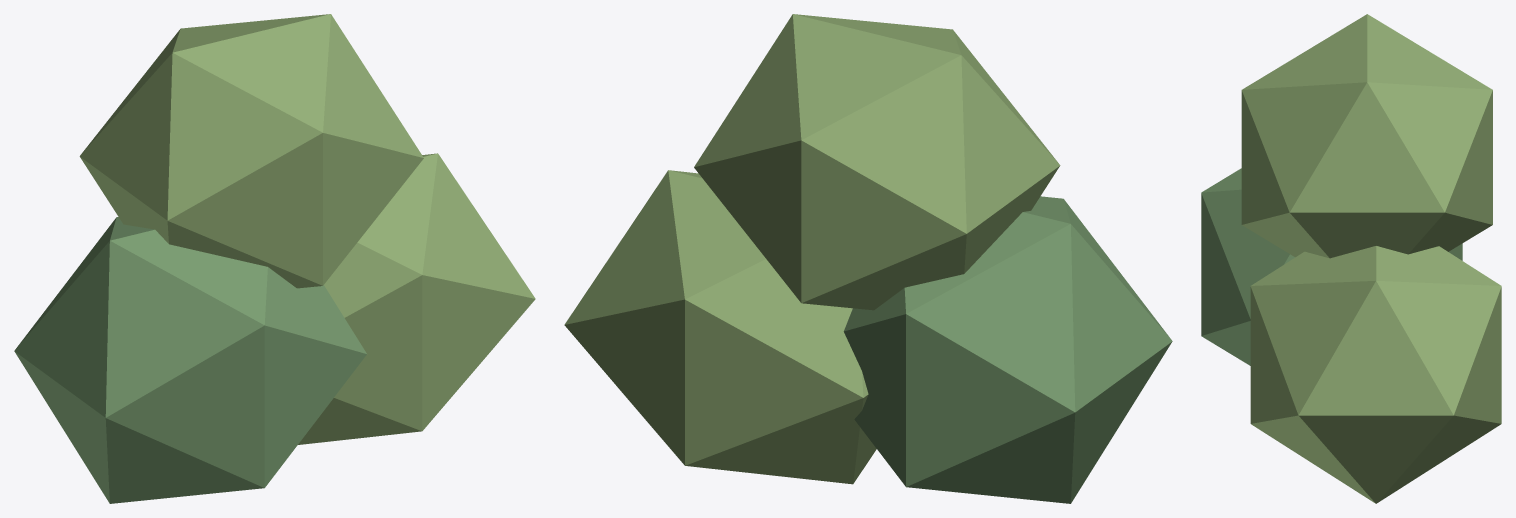
3 views of the same model, side by side, from view 1: azimuth 30°, elevation 25°; view 2: azimuth 150°, elevation 25°; view 3: azimuth 270°, elevation 25° (orthographic). The views are drawn at different scales.
Parts seen in each view (by area): view 1: Body; view 2: Body; view 3: Body.
Boxes of the visible parts, left/top/right/bottom form: Body: left=14, top=14, right=535, bottom=503; Body: left=564, top=14, right=1172, bottom=503; Body: left=1201, top=14, right=1501, bottom=503.
Bounding box in the file's own units: 1.58 × 1.4 × 1.02.
